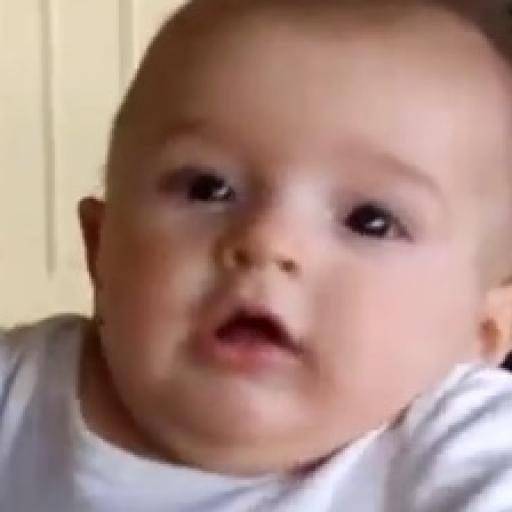Autism: (130, 23, 512, 454)
